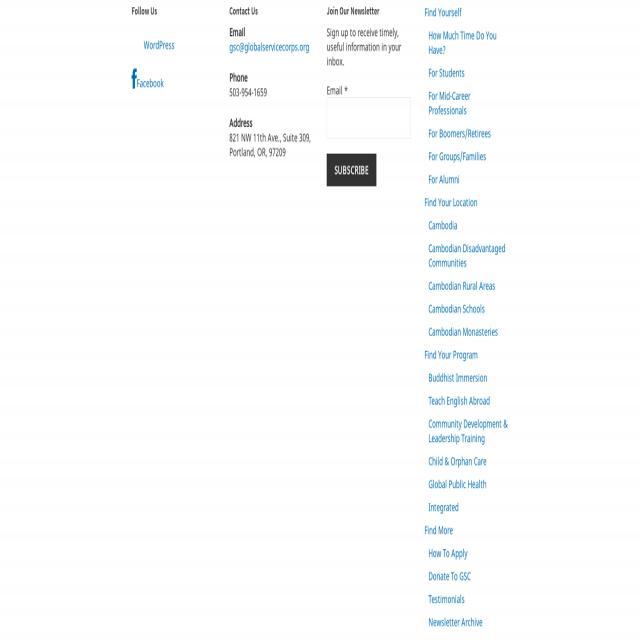button: (327, 153, 376, 186)
field: (327, 97, 411, 139)
